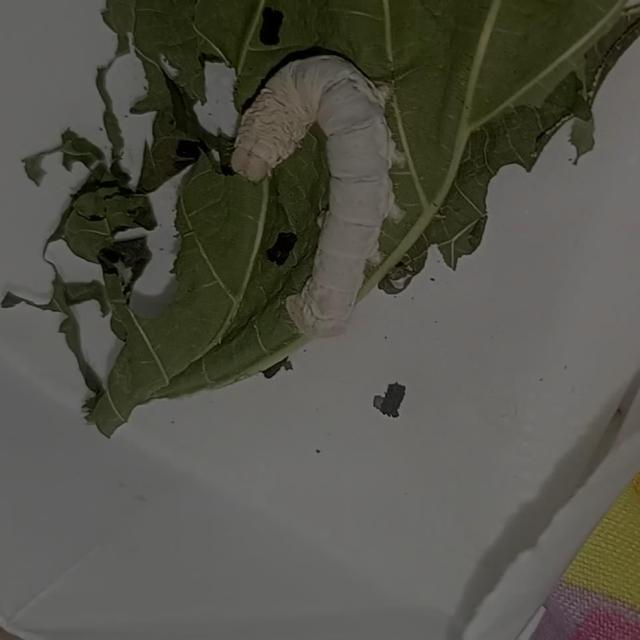Healthy: (200, 28, 418, 355)
